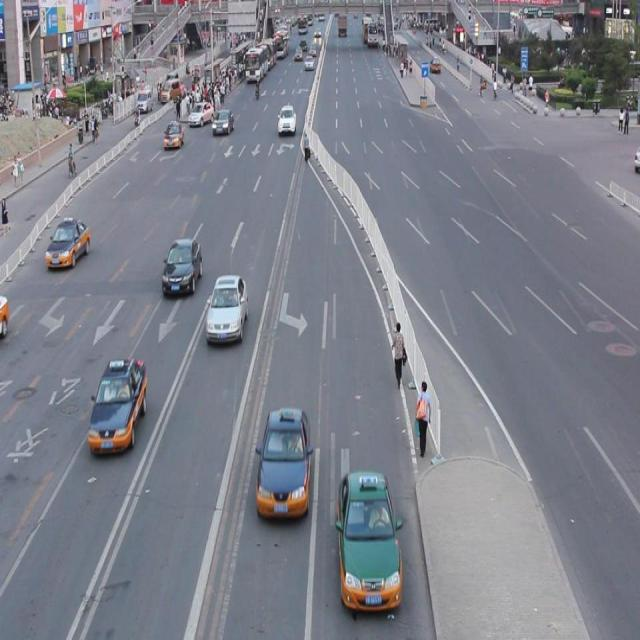car: (335, 465, 402, 612), (254, 404, 311, 519), (86, 354, 147, 455), (204, 273, 248, 343), (161, 235, 203, 297), (44, 216, 92, 270)
